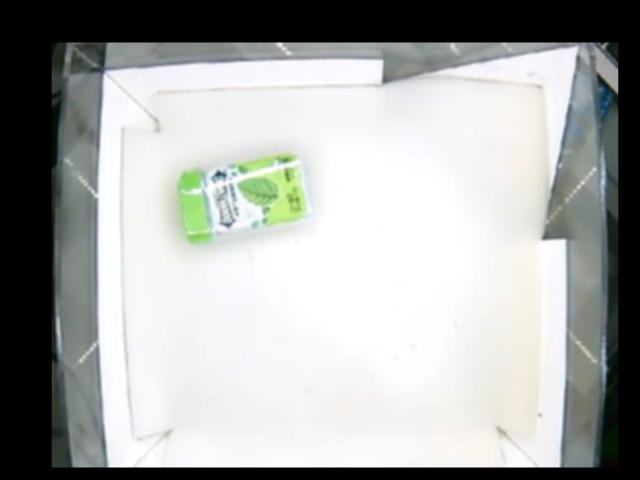Bottle: (179, 154, 311, 244)
